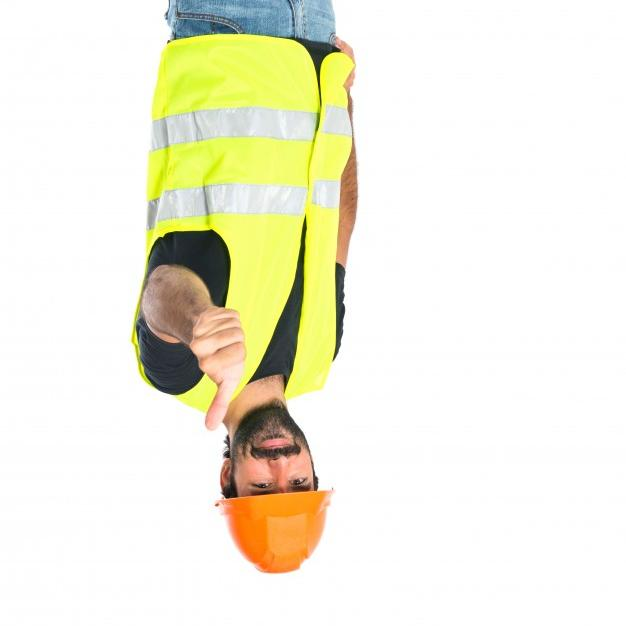thumbsdown: (190, 306, 247, 432)
